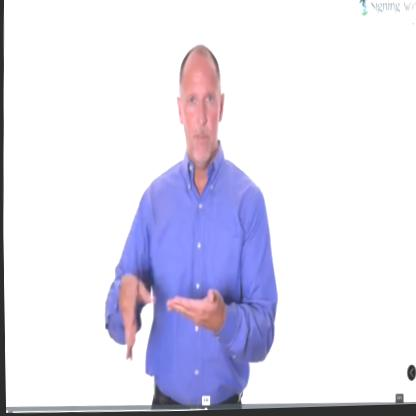Expensive: (114, 240, 227, 377)
